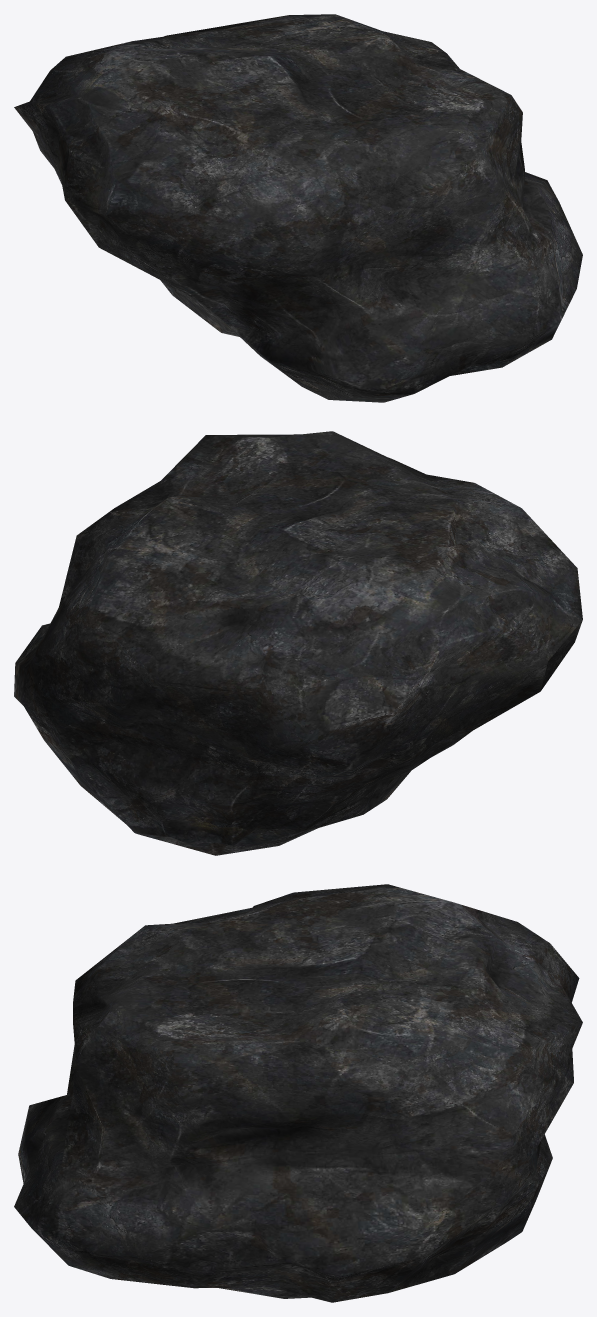
File: rock4.obj
The picture shows the model from 3 angles, top to bottom: view 1: azimuth 30°, elevation 25°; view 2: azimuth 150°, elevation 25°; view 3: azimuth 270°, elevation 25°; orthographic projection. The views are drawn at different scales.
Parts seen in each view (by area): view 1: RoadKillOut; view 2: RoadKillOut; view 3: RoadKillOut.
Boxes of the visible parts, x1,y1,x2,y2 form: RoadKillOut: (14, 14, 582, 402); RoadKillOut: (14, 431, 582, 855); RoadKillOut: (14, 884, 582, 1302).
Bounding box in the file's own units: 6 × 3.4 × 6.
